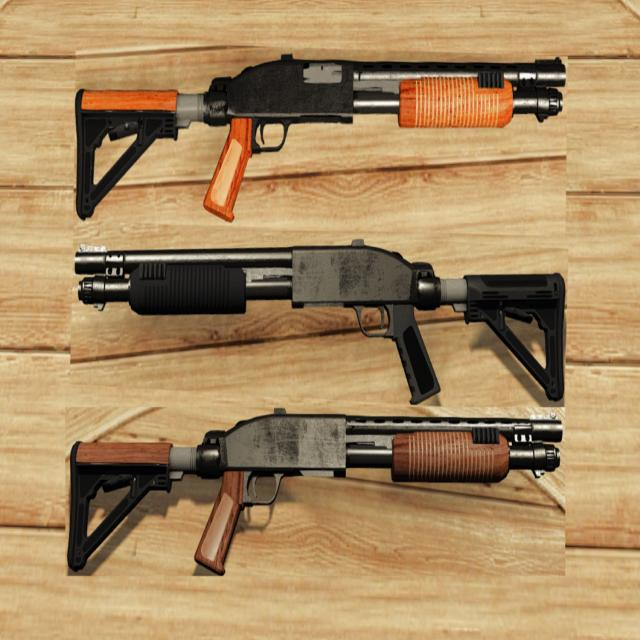ShotGun: (65, 408, 564, 576), (72, 240, 565, 404), (74, 55, 567, 218)
